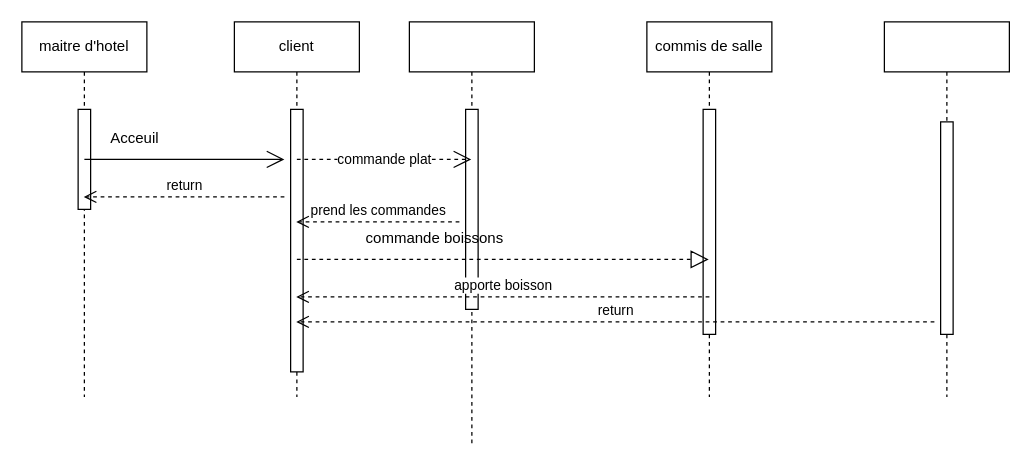
Image size: 1031x469. Some labels were removed from this diagram. Here are the shapes that lost their labels. From the top down, the box of each, then its label:
(883, 21, 1009, 397): serveur
(408, 21, 534, 447): Chef de rang
